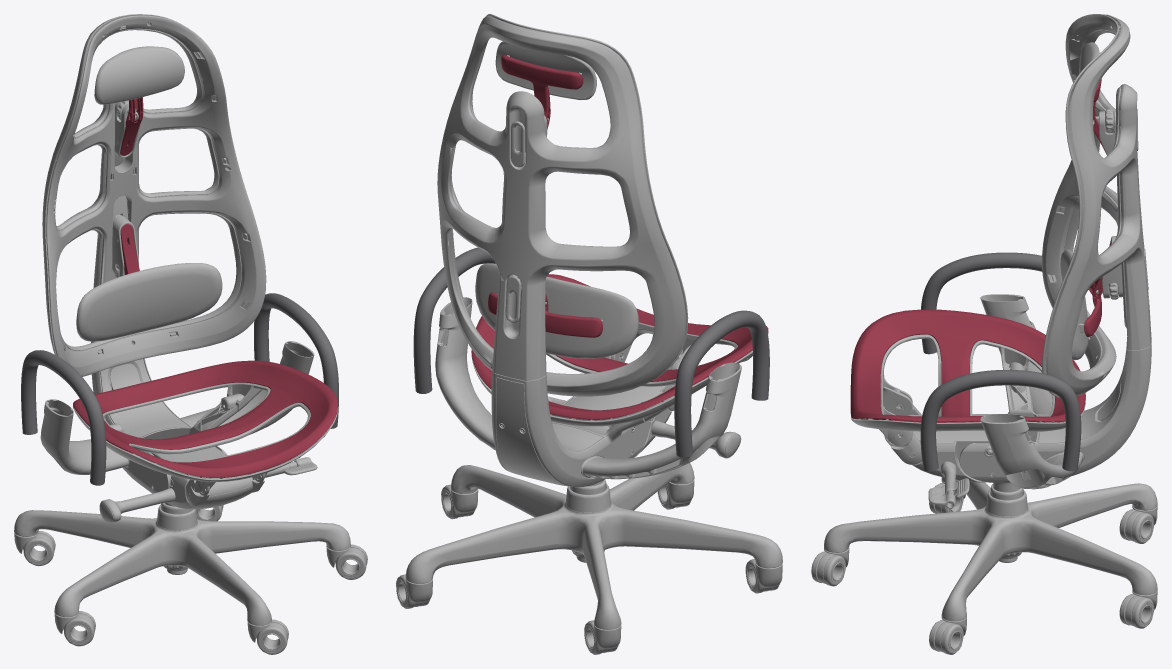
File: chair_loop_burgundy_v2.glb
3 views of the same model, side by side, from view 1: azimuth 30°, elevation 25°; view 2: azimuth 150°, elevation 25°; view 3: azimuth 270°, elevation 25° (orthographic). The views are drawn at different scales.
Parts seen in each view (by area): view 1: GRUPPO_SCHIENALE, 5S_BASE, SEDILE, Mesh_32, BRACCIOLI, BB-MECC_E_SEDILE, Mesh_37, Loop_Arm_L, ASSIEME_REGOLAZIONI_SCHIENALE, Loop_Arm_R; view 2: GRUPPO_SCHIENALE, 5S_BASE, BRACCIOLI, SEDILE, Mesh_32, Loop_Arm_L, ASSIEME_REGOLAZIONI_SCHIENALE, BB-MECC_E_SEDILE, Loop_Arm_R, Mesh_37; view 3: GRUPPO_SCHIENALE, 5S_BASE, SEDILE, BRACCIOLI, Loop_Arm_R, BB-MECC_E_SEDILE, Loop_Arm_L, ASSIEME_REGOLAZIONI_SCHIENALE, Mesh_32.
Boxes of the visible parts, box(x1,y1,x2,y2) form: GRUPPO_SCHIENALE: box(42, 14, 266, 493); 5S_BASE: box(14, 502, 367, 654); SEDILE: box(73, 360, 337, 492); Mesh_32: box(76, 263, 222, 341); BRACCIOLI: box(40, 341, 314, 474); BB-MECC_E_SEDILE: box(99, 446, 317, 522); Mesh_37: box(94, 46, 184, 104); Loop_Arm_L: box(21, 350, 106, 485); ASSIEME_REGOLAZIONI_SCHIENALE: box(112, 97, 143, 277); Loop_Arm_R: box(254, 293, 338, 428); GRUPPO_SCHIENALE: box(437, 14, 688, 487); 5S_BASE: box(396, 463, 782, 654); BRACCIOLI: box(435, 297, 741, 479); SEDILE: box(471, 274, 768, 426); Mesh_32: box(475, 263, 638, 358); Loop_Arm_L: box(674, 310, 769, 457); ASSIEME_REGOLAZIONI_SCHIENALE: box(488, 55, 602, 337); BB-MECC_E_SEDILE: box(549, 355, 741, 458); Loop_Arm_R: box(413, 247, 495, 393); Mesh_37: box(495, 41, 596, 100); GRUPPO_SCHIENALE: box(959, 14, 1151, 482); 5S_BASE: box(811, 477, 1157, 654); SEDILE: box(850, 309, 1085, 446); BRACCIOLI: box(980, 294, 1083, 489); Loop_Arm_R: box(920, 370, 1081, 471); BB-MECC_E_SEDILE: box(884, 404, 990, 508); Loop_Arm_L: box(921, 252, 1042, 354); ASSIEME_REGOLAZIONI_SCHIENALE: box(1084, 79, 1148, 336); Mesh_32: box(1060, 249, 1088, 360).
Bounding box in the file's own units: 0.7525 × 1.25 × 0.7114.
